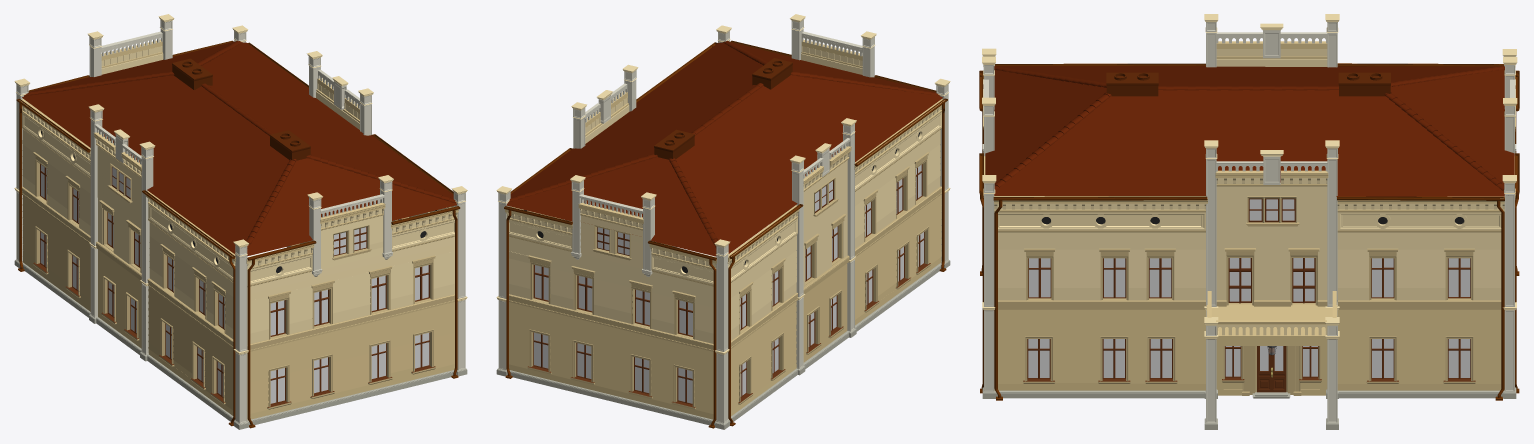
The model's file is pałac mokre w kolorze.glb.
3 renders of one model, left to right at view 1: azimuth 30°, elevation 25°; view 2: azimuth 150°, elevation 25°; view 3: azimuth 270°, elevation 25°, orthographic. The views are drawn at different scales.
Parts seen in each view (by area): view 1: Płaszczyzna.001, Sześcian.676, Sześcian.204, Sześcian.245, Sześcian.448, Sześcian.769, Sześcian.910, Walec.002, Sześcian.905, Sześcian.014, Sześcian.447, Walec.036 (+16 smaller); view 2: Płaszczyzna.001, Sześcian.676, Sześcian.204, Sześcian.245, Sześcian.448, Sześcian.769, Sześcian.910, Walec.002, Sześcian.905, Sześcian.014, Sześcian.447, Walec.036 (+16 smaller); view 3: Płaszczyzna.001, Sześcian.676, Sześcian.204, Sześcian.245, Sześcian.769, Sześcian.411, Walec.002, Sześcian.448, Sześcian.910, Sześcian.905, Walec.036, Sześcian.014 (+21 smaller).
Boxes of the visible parts, x1,y1,x2,y2 form: Płaszczyzna.001: (22,41,456,256); Sześcian.676: (22,195,454,420); Sześcian.204: (22,53,454,344); Sześcian.245: (16,19,465,423); Sześcian.448: (33,152,435,406); Sześcian.769: (40,165,429,403); Sześcian.910: (16,40,460,428); Walec.002: (22,107,454,285); Sześcian.905: (40,164,429,404); Sześcian.014: (14,246,467,429); Sześcian.447: (97,146,141,272); Walec.036: (24,40,456,249); Płaszczyzna.001: (506,42,942,256); Sześcian.676: (509,194,941,419); Sześcian.204: (509,53,940,343); Sześcian.245: (498,19,948,423); Sześcian.448: (527,152,929,406); Sześcian.769: (534,165,923,403); Sześcian.910: (504,40,947,428); Walec.002: (509,112,941,284); Sześcian.905: (533,164,924,404); Sześcian.014: (496,220,950,429); Sześcian.447: (803,160,847,286); Walec.036: (508,41,939,248); Płaszczyzna.001: (985,66,1514,196); Sześcian.676: (994,196,1504,390); Sześcian.204: (998,232,1501,300); Sześcian.245: (983,22,1515,422); Sześcian.769: (1028,199,1470,377); Sześcian.411: (1216,186,1327,299); Walec.002: (994,212,1501,230); Sześcian.448: (994,196,1474,381); Sześcian.910: (979,63,1519,400); Sześcian.905: (1027,258,1470,378); Walec.036: (994,65,1504,190); Sześcian.014: (982,387,1516,429).
Size of the model in its own units: 30.93 by 22.56 by 42.88.
